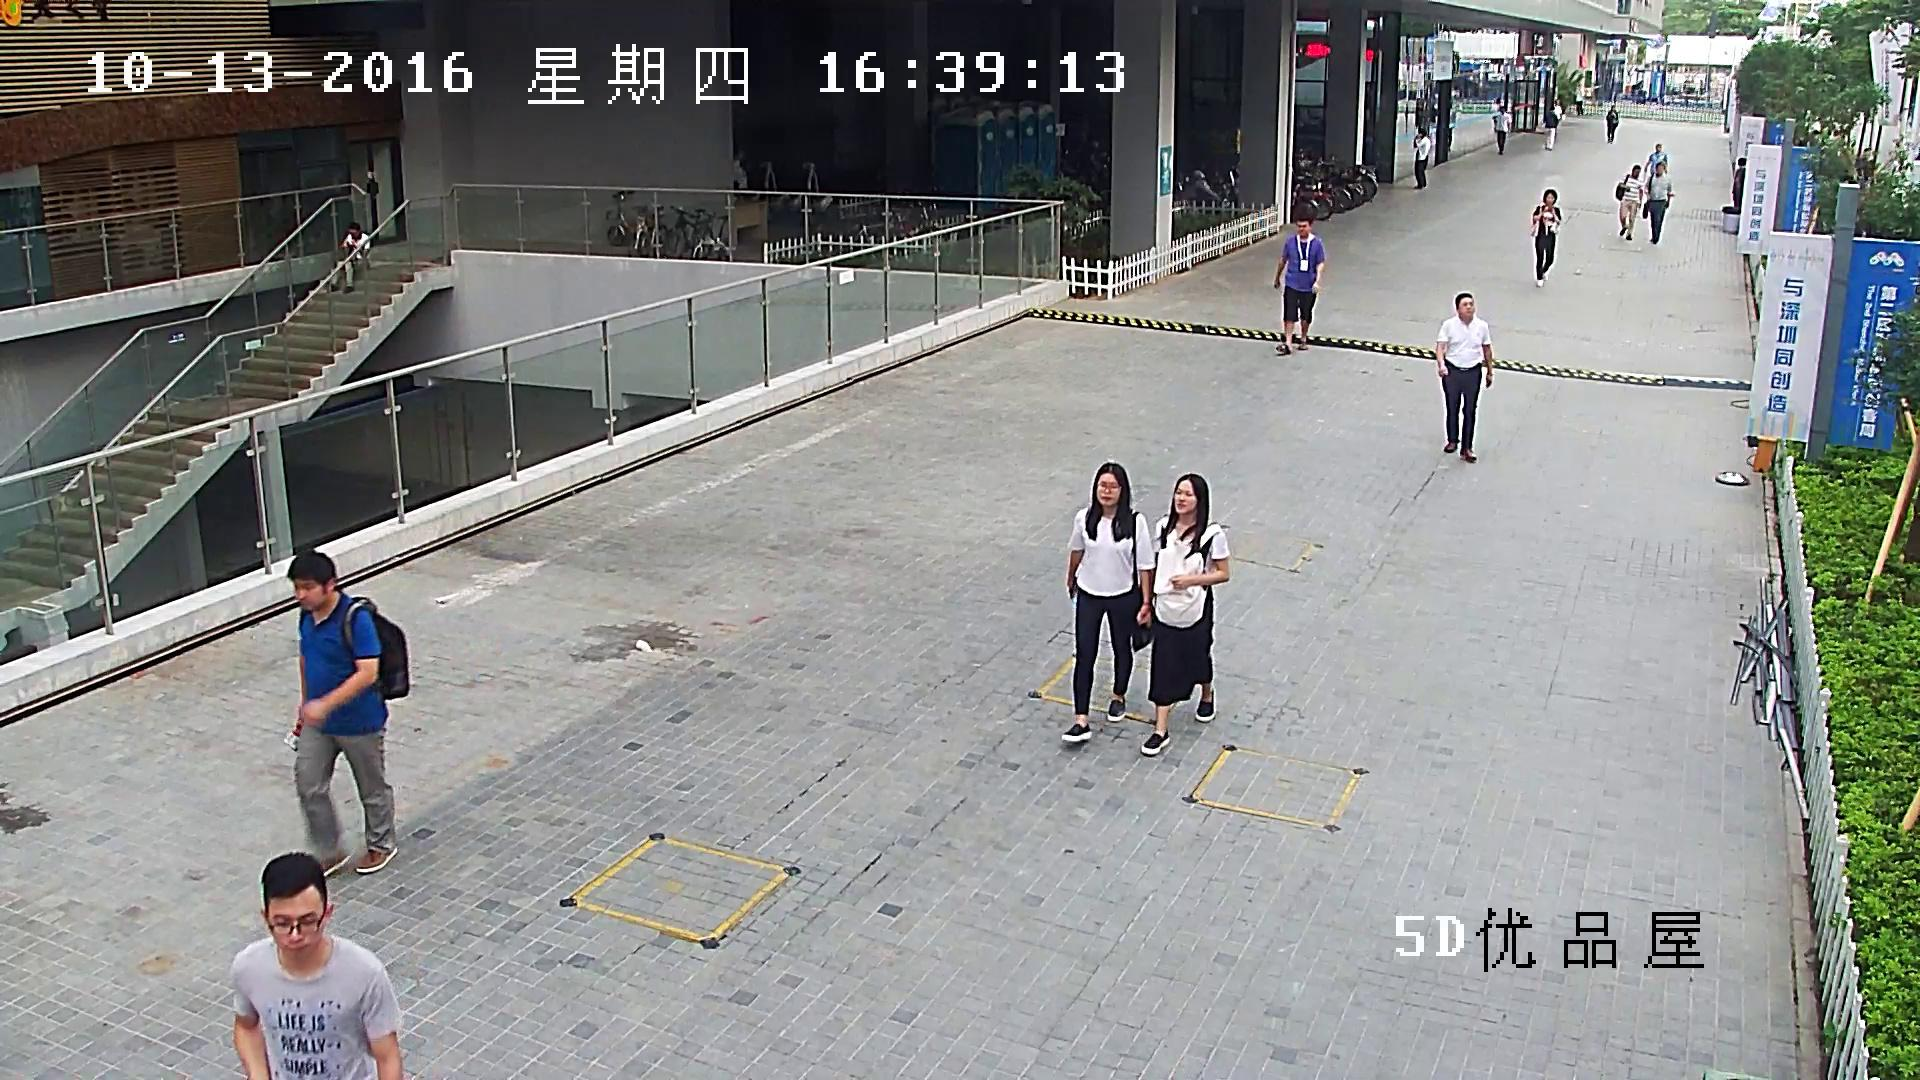person: (282, 550, 409, 876), (231, 852, 403, 1080), (1061, 462, 1155, 743), (1140, 473, 1229, 755), (1436, 292, 1492, 460), (1273, 212, 1325, 353), (330, 222, 369, 292), (1532, 188, 1560, 285), (1614, 164, 1643, 240), (1644, 162, 1671, 243), (1414, 129, 1431, 188), (1495, 106, 1512, 153), (1542, 107, 1557, 150), (1643, 143, 1666, 173), (1732, 157, 1744, 208), (1605, 104, 1618, 142), (1490, 97, 1500, 128), (1575, 84, 1583, 114), (1552, 101, 1562, 120)
